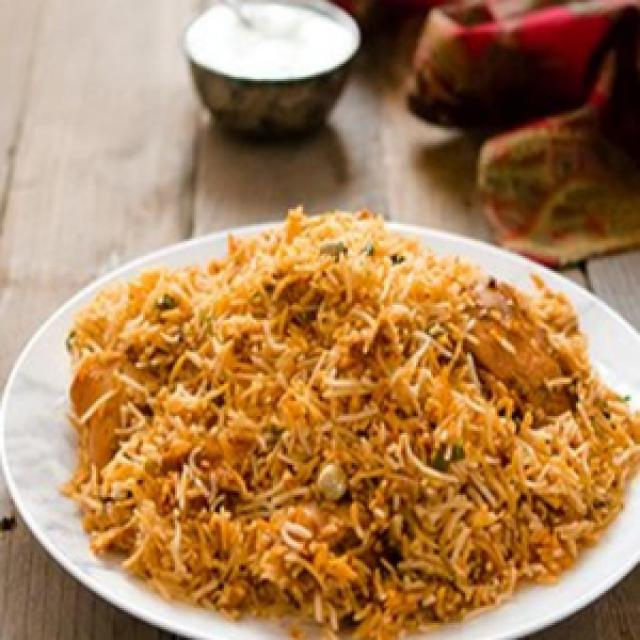chicken biriyani: (49, 192, 640, 640)
